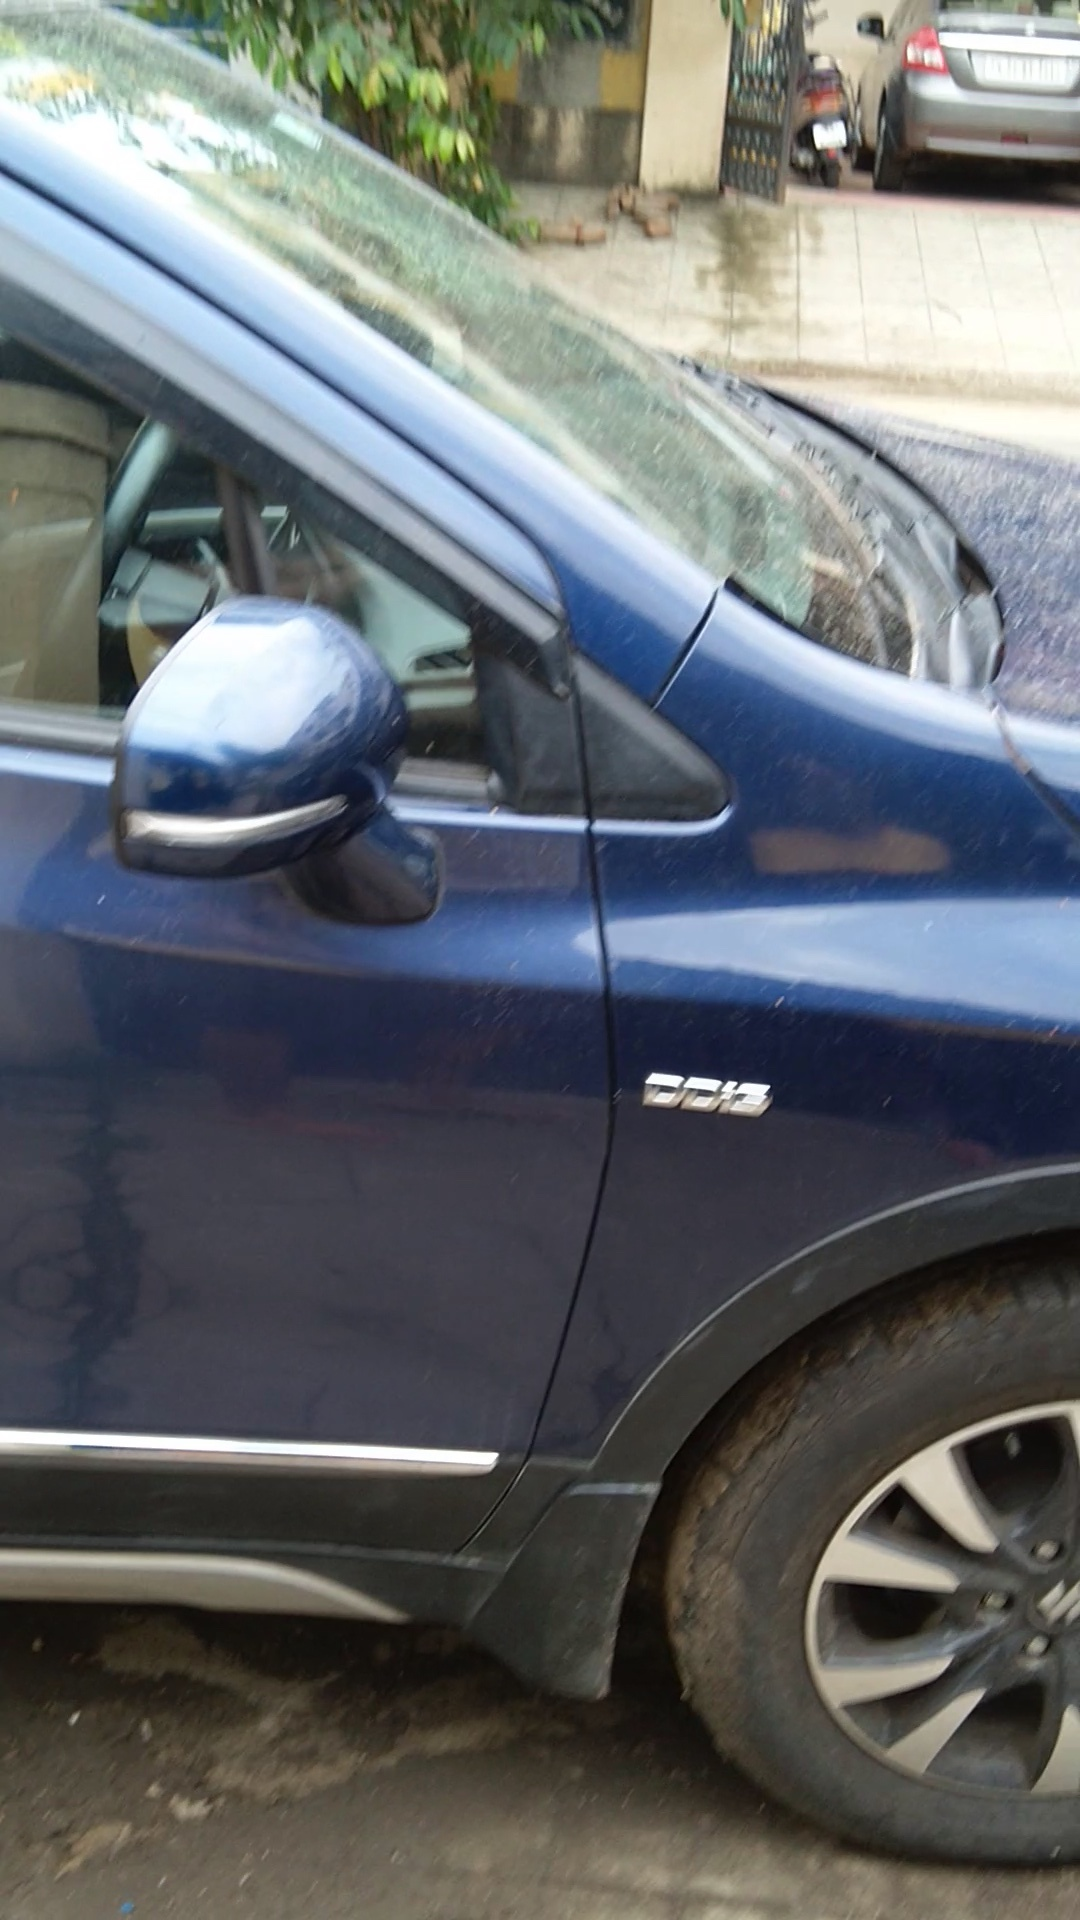ovr_mirror: (96, 564, 476, 957)
